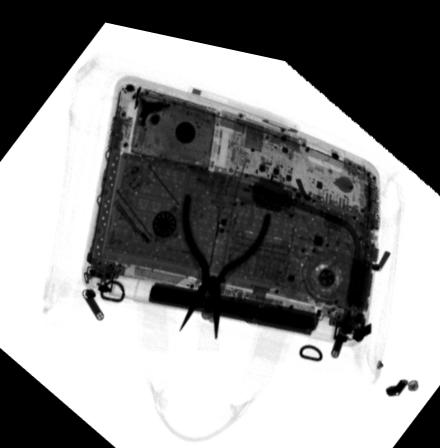Pliers: (177, 181, 273, 330)
